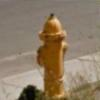a fire hydrant: (38, 14, 68, 100)
